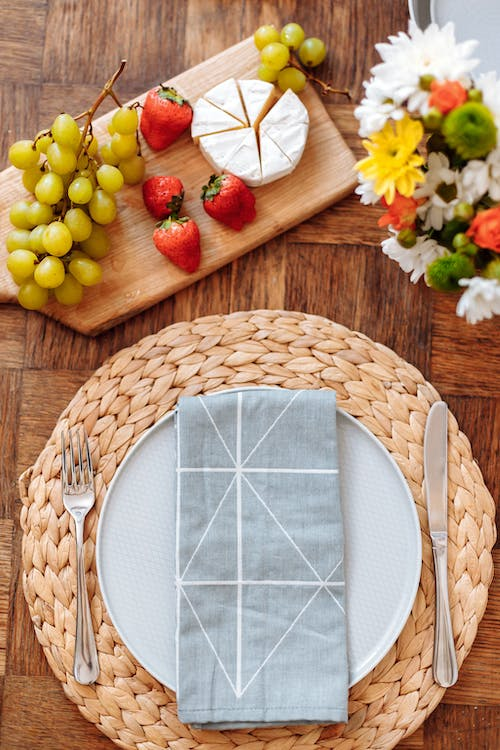knife: (418, 396, 463, 689)
